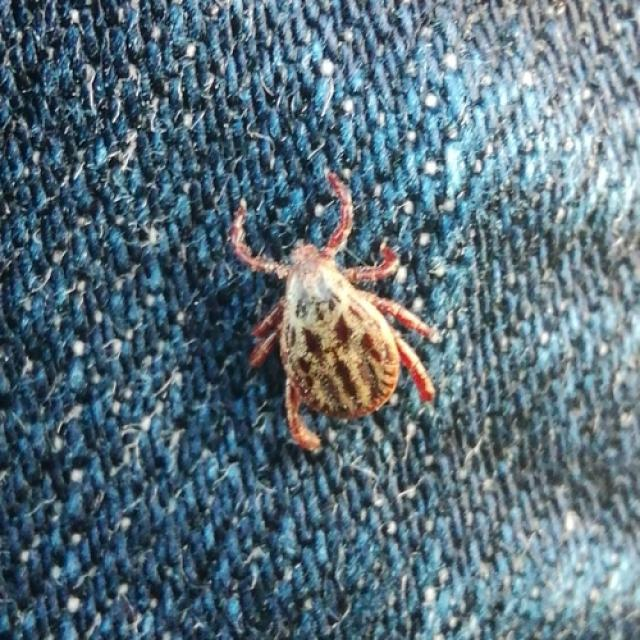Dermacentor Reticulatus-M: (228, 173, 442, 453)
